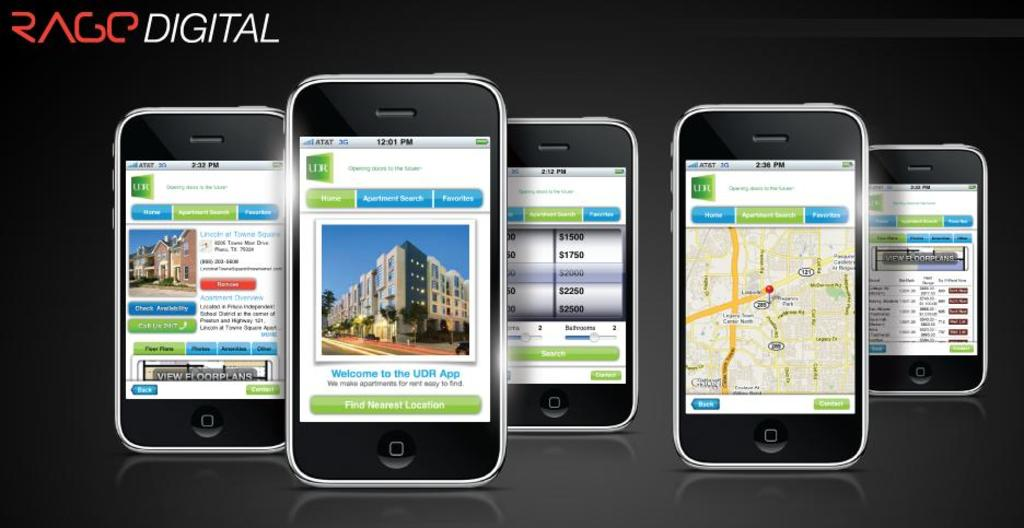mobile phone: (284, 72, 507, 491), (669, 103, 866, 475)
